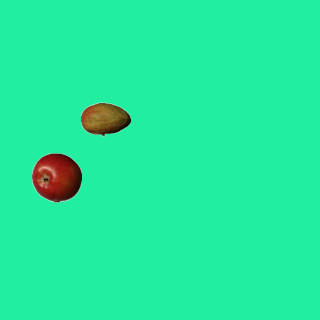Apple Braeburn: (31, 152, 81, 202)
Papaya: (80, 94, 130, 144)
